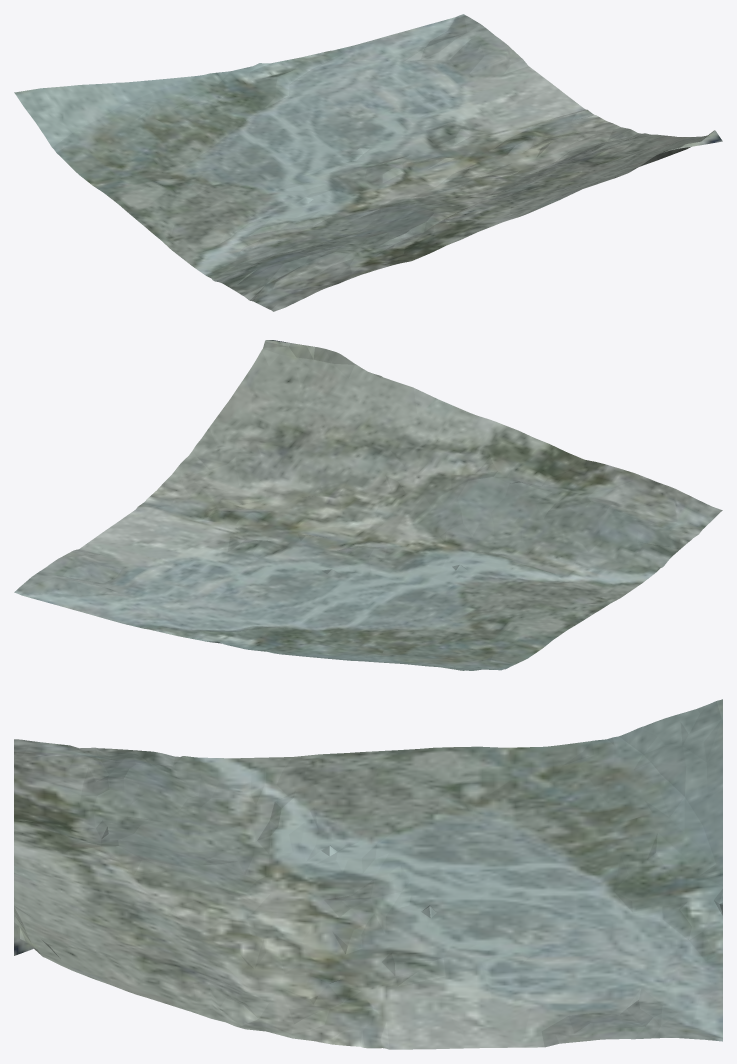
3 views of the same model, one above another, from view 1: azimuth 30°, elevation 25°; view 2: azimuth 150°, elevation 25°; view 3: azimuth 270°, elevation 25° (orthographic). The views are drawn at different scales.
Visible parts, largest first — view 1: Plane; view 2: Plane; view 3: Plane.
Boxes of the visible parts, bbox=[...] form: Plane: bbox=[14, 14, 722, 311]; Plane: bbox=[14, 340, 722, 670]; Plane: bbox=[14, 699, 722, 1049].
Size of the model in its own units: 0.5 by 0.0853 by 0.5.
Materials: 1 (1 with a texture image).
